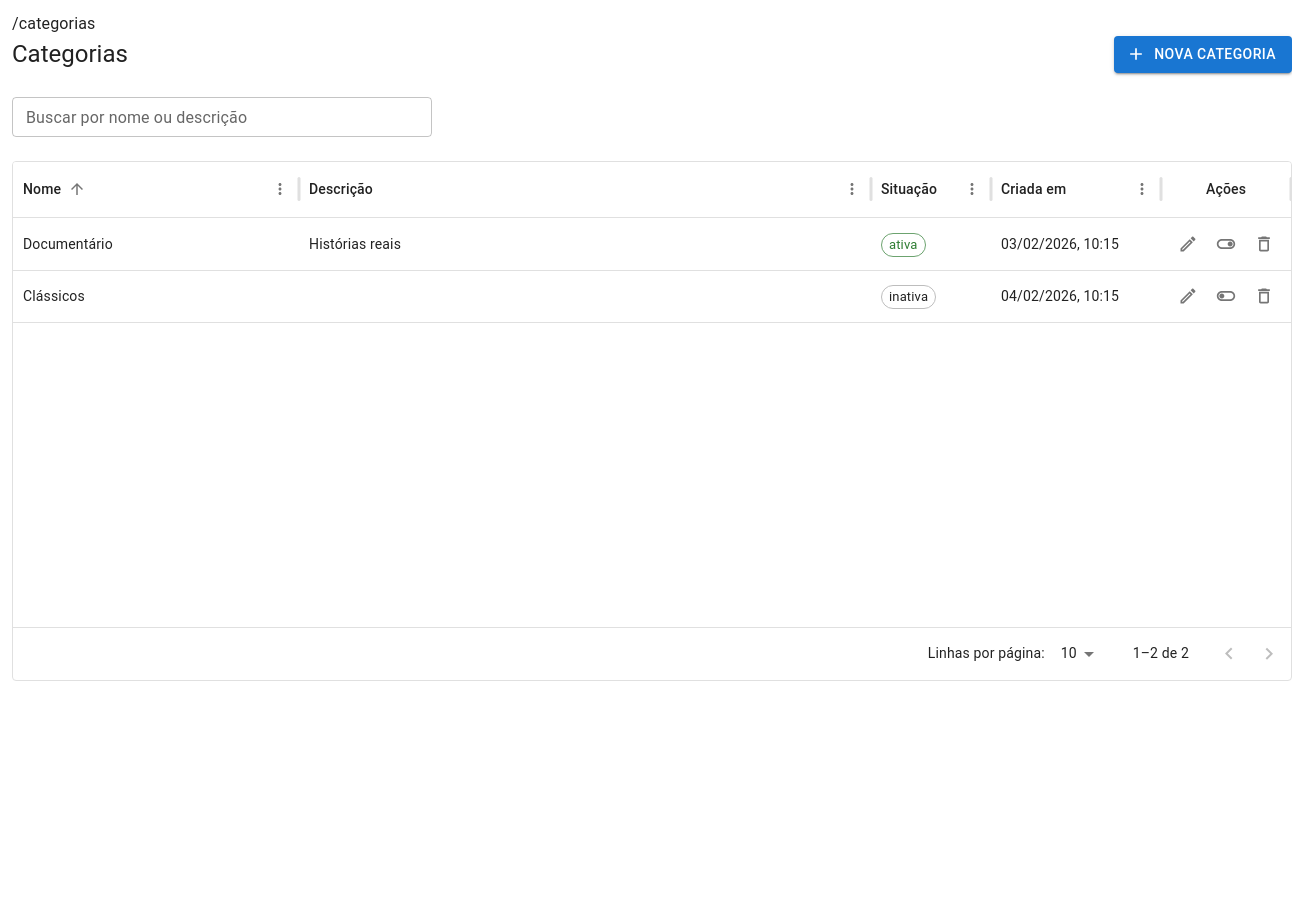
it: CategoryList › as ações da linha › givenCategoriaInativa_whenClicaEmAtivar_thenChamaActivate
expect the text "Clássicos" is shown: met, box [13,270,299,322]
Click the menu item named "Ativar". click: (1226, 296)
box: [1211,281,1241,311]
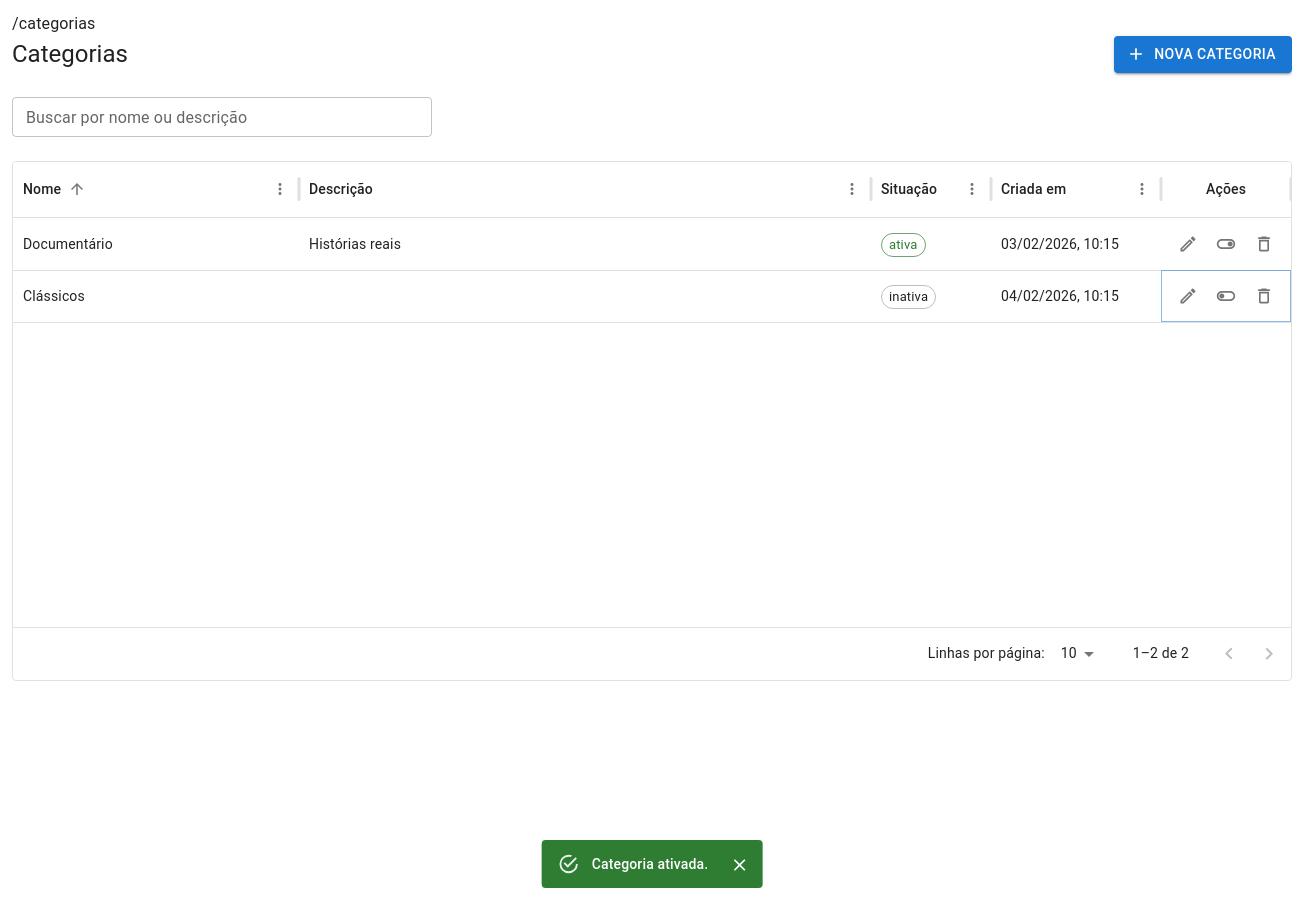
expect the text "Categoria ativada." is shown: met, box [592,856,708,872]
